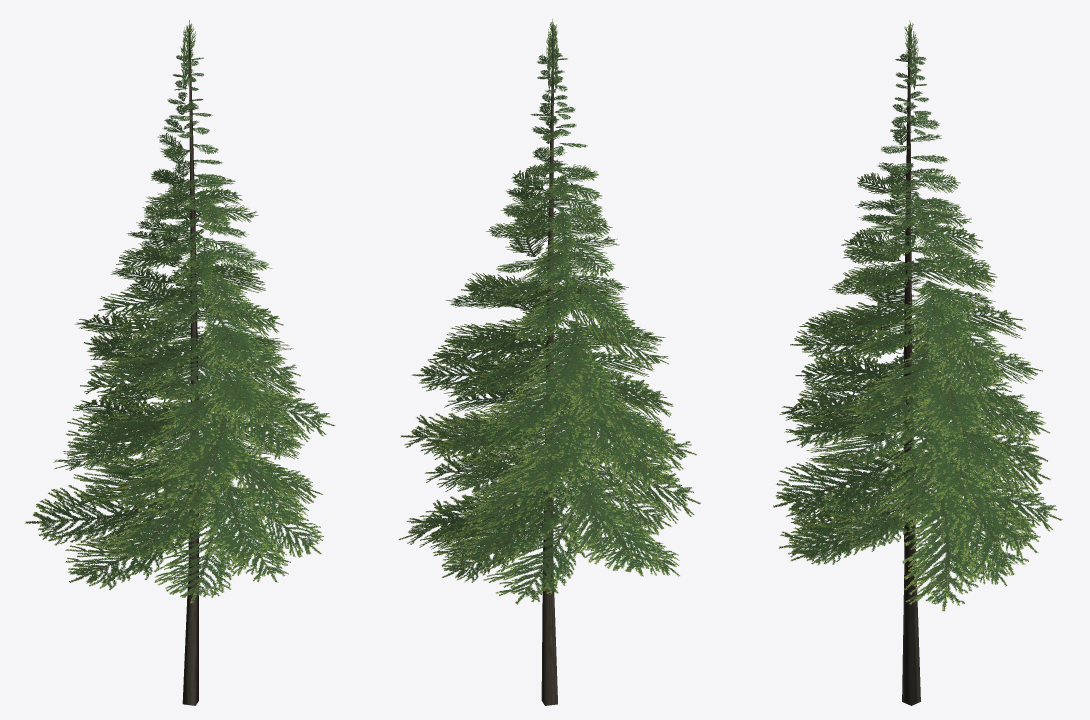
The model's file is mid.glb.
3 views of the same model, side by side, from view 1: azimuth 30°, elevation 25°; view 2: azimuth 150°, elevation 25°; view 3: azimuth 270°, elevation 25° (orthographic).
Visible parts, largest first — view 1: spruce_05; view 2: spruce_05; view 3: spruce_05.
Boxes of the visible parts, left/top/right/bottom form: spruce_05: left=25, top=20, right=335, bottom=705; spruce_05: left=398, top=19, right=700, bottom=705; spruce_05: left=773, top=20, right=1062, bottom=705.
Size of the model in its own units: 8.49 by 18.1 by 7.98.
Materials: 2 (2 with a texture image).
